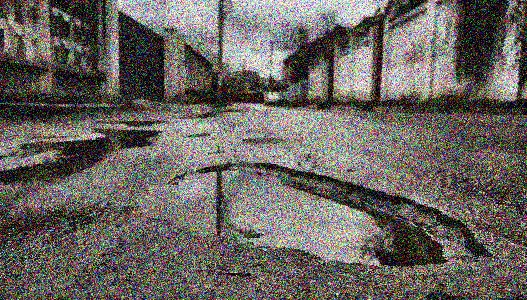pothole: (138, 159, 490, 268)
